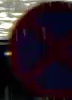No waiting: (6, 0, 71, 99)
